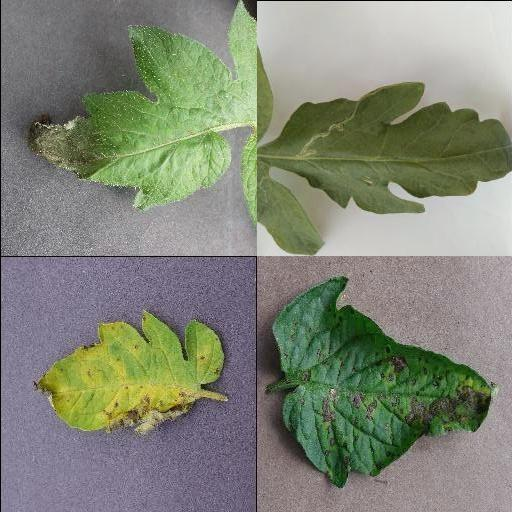Early Blight: (271, 280, 497, 488)
Late Blight: (26, 0, 256, 210)
Leaf Miner: (273, 79, 512, 215)
Septoria: (31, 305, 225, 434)
